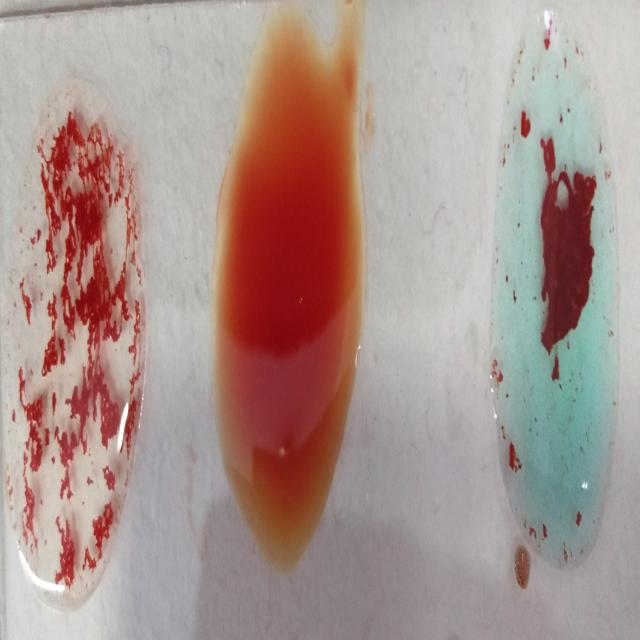A: (500, 32, 618, 563)
D: (2, 93, 149, 601)
